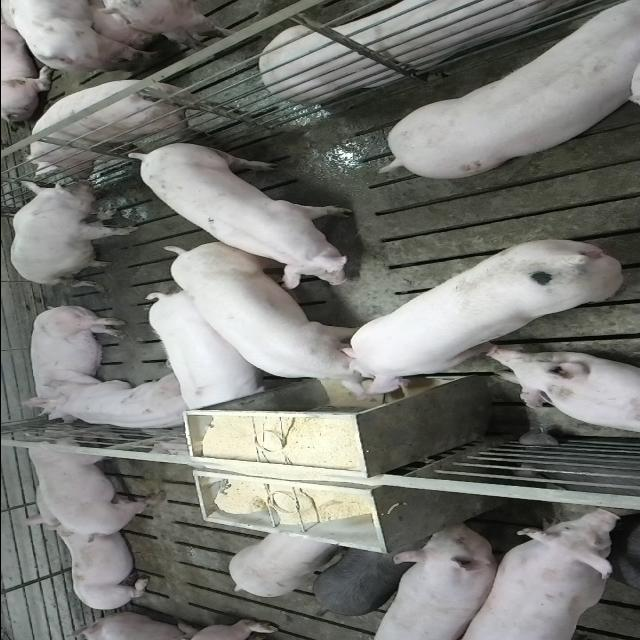Feeding: (338, 236, 626, 400), (161, 241, 385, 401)
Lateral_lying: (18, 302, 128, 418)
Sitting: (8, 178, 139, 286)
Standing: (375, 5, 635, 184), (121, 140, 361, 282), (445, 507, 625, 639), (26, 80, 231, 182), (144, 287, 278, 413), (20, 431, 168, 536), (368, 522, 498, 637), (0, 0, 153, 72), (227, 530, 344, 598), (310, 546, 420, 616), (608, 509, 640, 625)
Sternal_lying: (262, 0, 602, 100), (486, 348, 640, 436), (39, 524, 154, 612), (24, 376, 196, 434)
